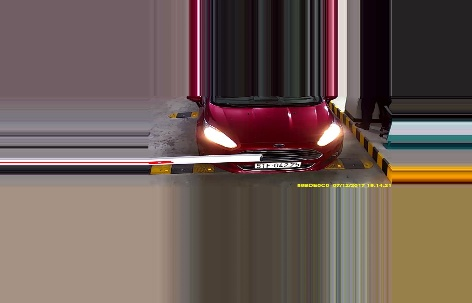plate: (249, 161, 303, 171)
